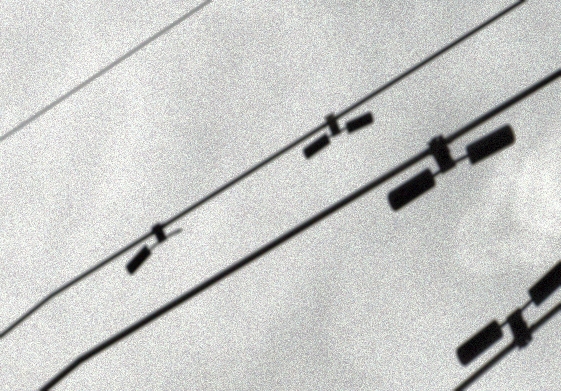damper: (385, 121, 518, 214), (454, 258, 561, 370), (300, 107, 375, 160)
damper_defect: (123, 220, 185, 276)
